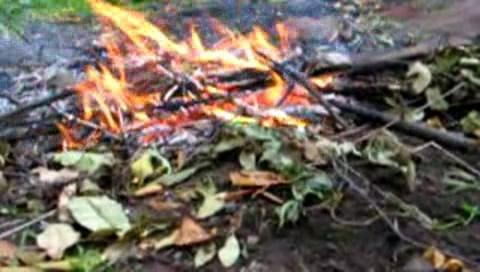smoke: (88, 1, 306, 130)
